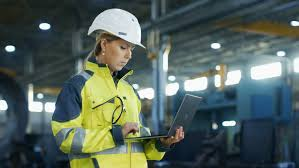Person_wearing_helmet: (83, 4, 148, 48)
